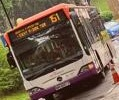bus: (46, 11, 63, 24)
